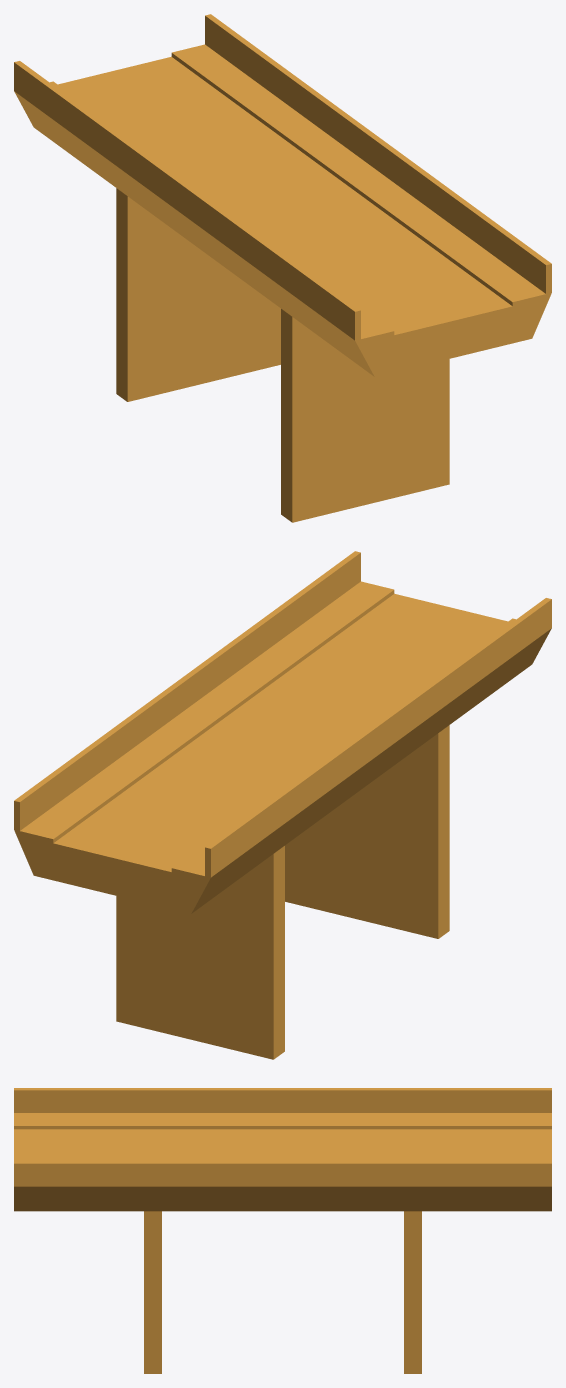
File: tiles-bridge-road.glb
The picture shows the model from 3 angles, top to bottom: view 1: azimuth 30°, elevation 25°; view 2: azimuth 150°, elevation 25°; view 3: azimuth 270°, elevation 25°; orthographic projection. The views are drawn at different scales.
Parts seen in each view (by area): view 1: bridge-road; view 2: bridge-road; view 3: bridge-road.
Boxes of the visible parts, x1,y1,x2,y2 form: bridge-road: (14,14,551,522); bridge-road: (14,551,551,1059); bridge-road: (14,1088,551,1373).
Bounding box in the file's own units: 10 × 13.4 × 30.
